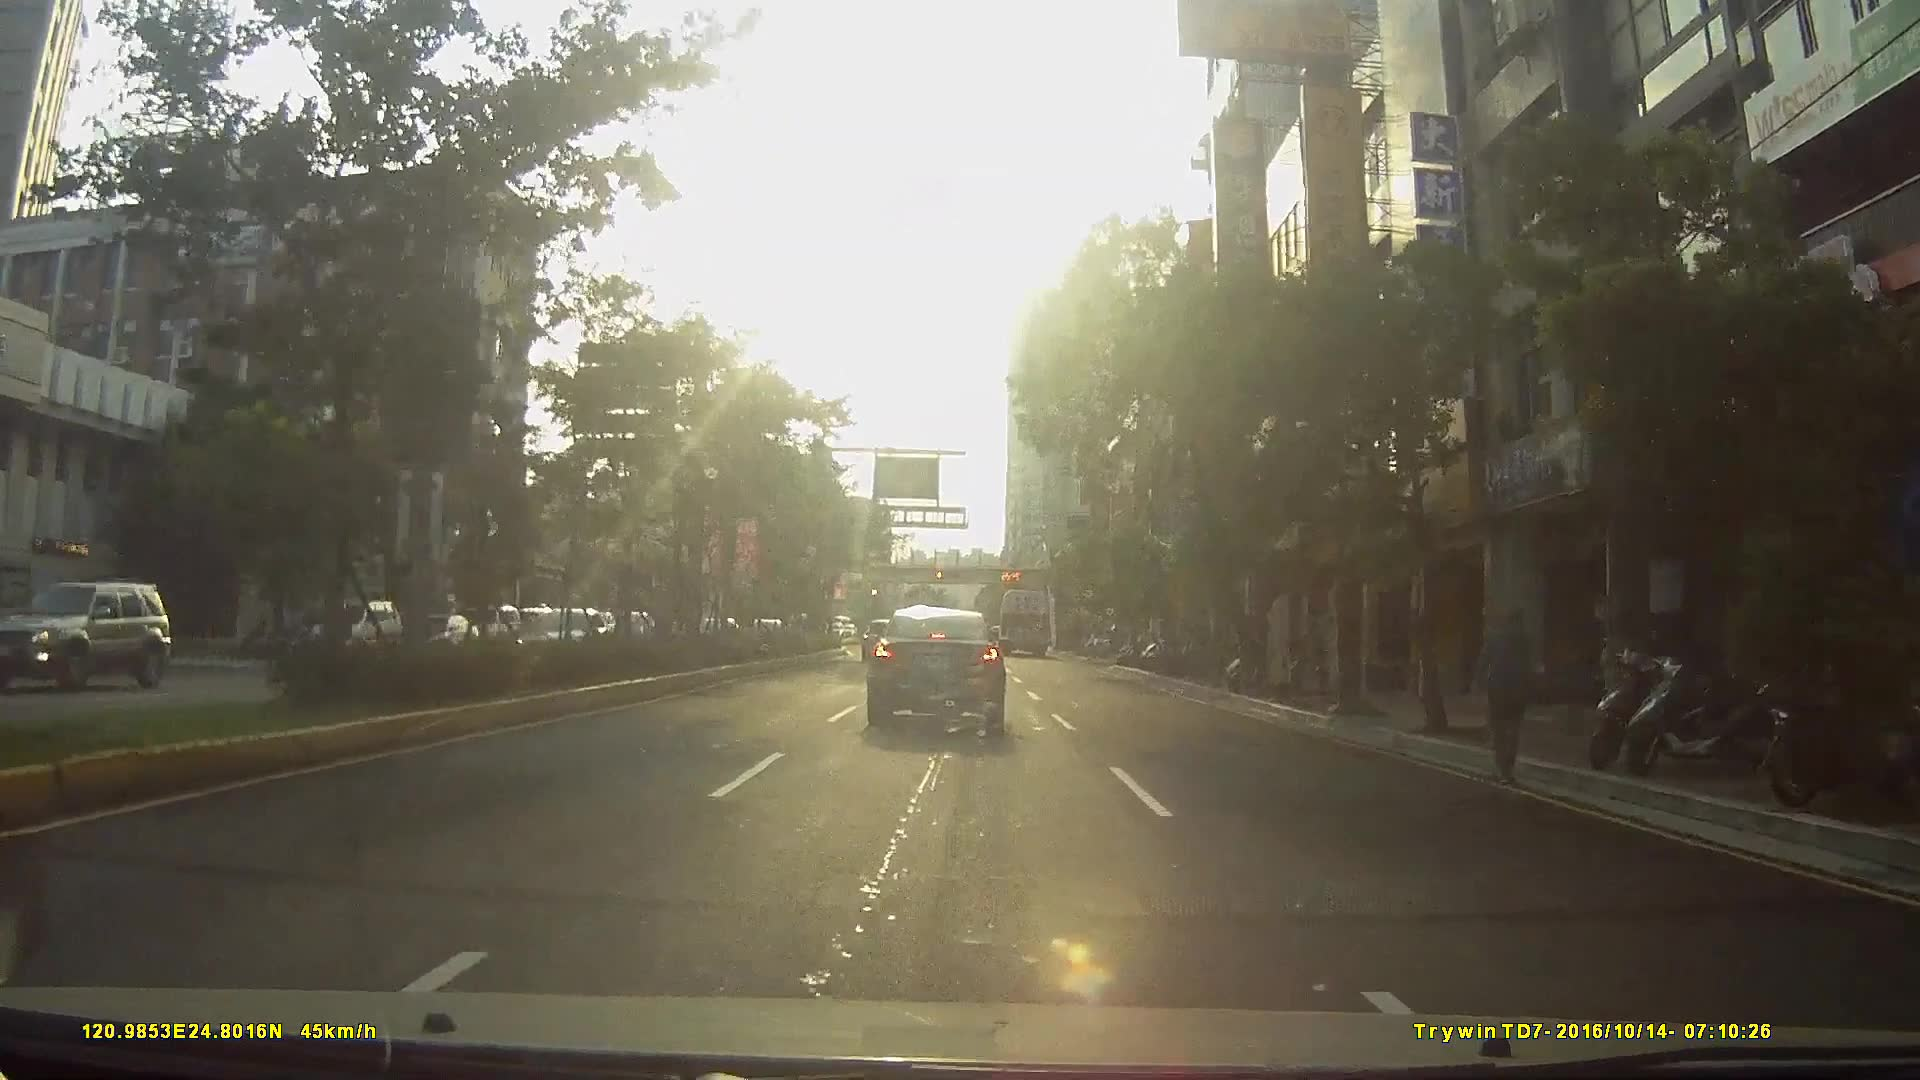pedestrian: (1481, 609, 1542, 787)
vehicle: (1, 577, 188, 709), (864, 607, 1006, 729), (302, 596, 397, 657), (995, 587, 1052, 654)
